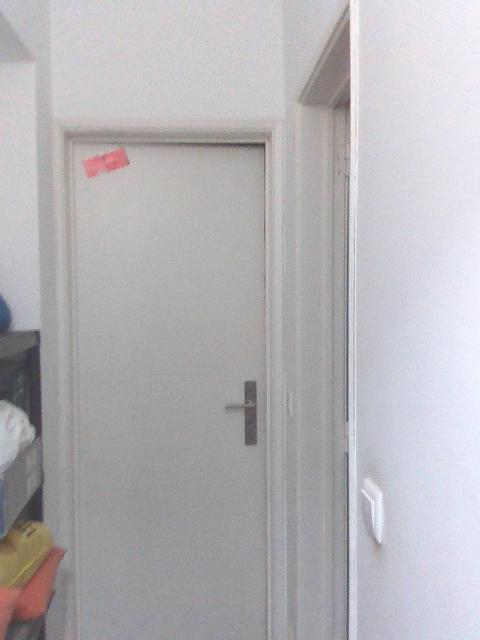closed_door: (52, 118, 281, 639)
